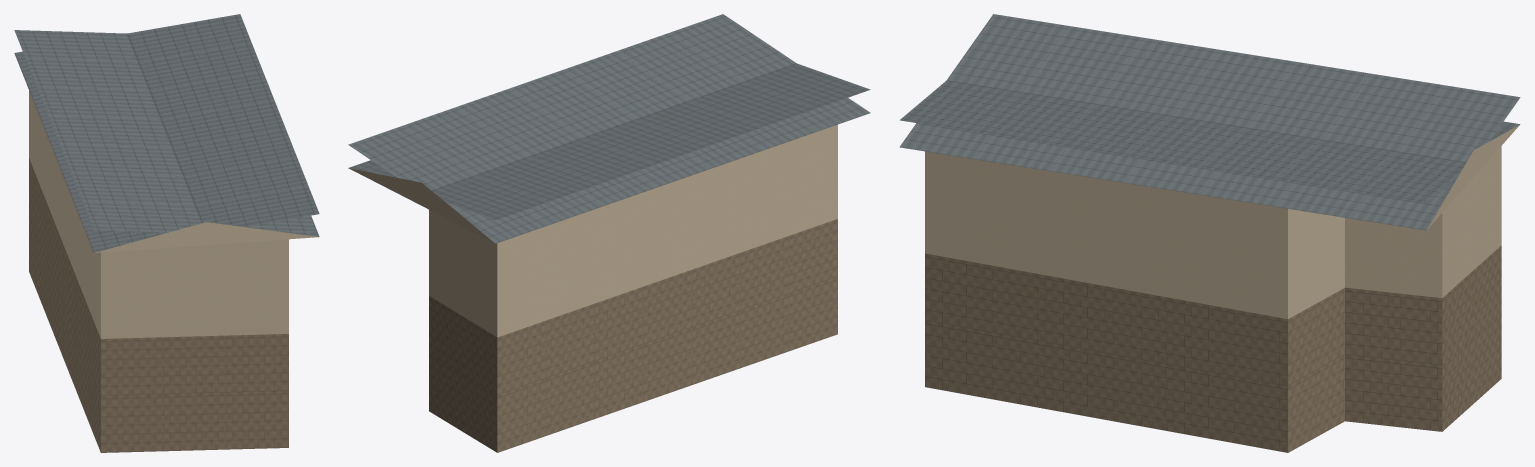
The model's file is bld_c3_16_454.gltf.
The picture shows the model from 3 angles, left to right: view 1: azimuth 30°, elevation 25°; view 2: azimuth 150°, elevation 25°; view 3: azimuth 270°, elevation 25°; orthographic projection. The views are drawn at different scales.
Parts seen in each view (by area): view 1: bld_c3_16_454; view 2: bld_c3_16_454; view 3: bld_c3_16_454.
Boxes of the visible parts, x1,y1,x2,y2 form: bld_c3_16_454: (14,14,319,452); bld_c3_16_454: (348,14,870,452); bld_c3_16_454: (899,14,1520,452).
Bounding box in the file's own units: 15.07 × 10.3 × 20.87.
Materials: 4 (4 with a texture image).
